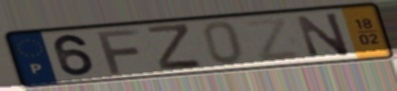0: (201, 19, 247, 68)
6: (52, 33, 97, 78)
F: (94, 27, 143, 76)
N: (293, 10, 353, 58)
Z: (242, 15, 305, 63), (145, 22, 205, 71)
